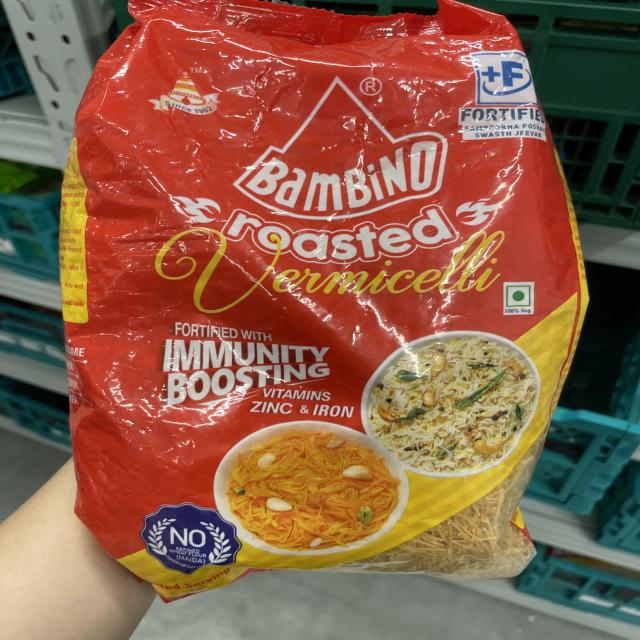object_name: (116, 24, 523, 576)
